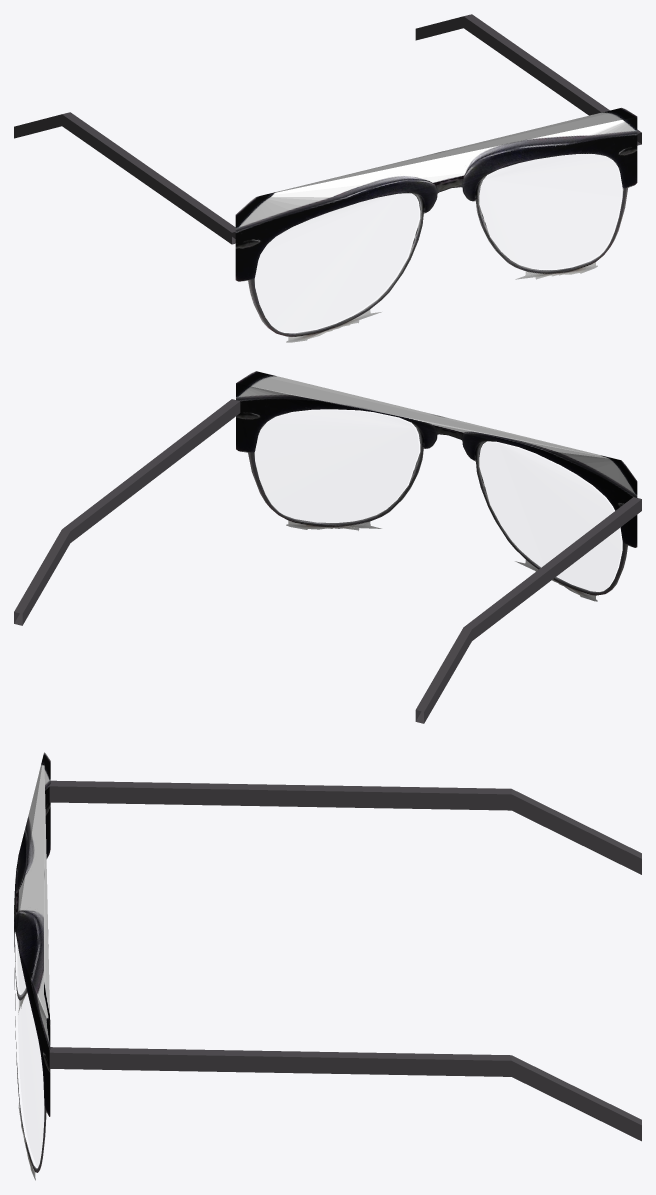
The model's file is times-square-kingpin_black-gold.glb.
3 renders of one model, top to bottom at view 1: azimuth 30°, elevation 25°; view 2: azimuth 150°, elevation 25°; view 3: azimuth 270°, elevation 25°, orthographic. The views are drawn at different scales.
Parts seen in each view (by area): view 1: frame_front, temple_viewer_left, temple_viewer_right; view 2: frame_front, temple_viewer_left, temple_viewer_right; view 3: temple_viewer_left, temple_viewer_right, frame_front.
Boxes of the visible parts, x1,y1,x2,y2 form: frame_front: [235, 107, 637, 342]; temple_viewer_left: [14, 112, 236, 244]; temple_viewer_right: [415, 14, 641, 145]; frame_front: [236, 371, 637, 601]; temple_viewer_left: [415, 497, 641, 723]; temple_viewer_right: [14, 399, 240, 625]; temple_viewer_left: [49, 780, 641, 874]; temple_viewer_right: [49, 1047, 641, 1141]; frame_front: [14, 752, 50, 1180].
Size of the model in its own units: 0.1445 by 0.051 by 0.141.
Materials: 3 (2 with a texture image).
